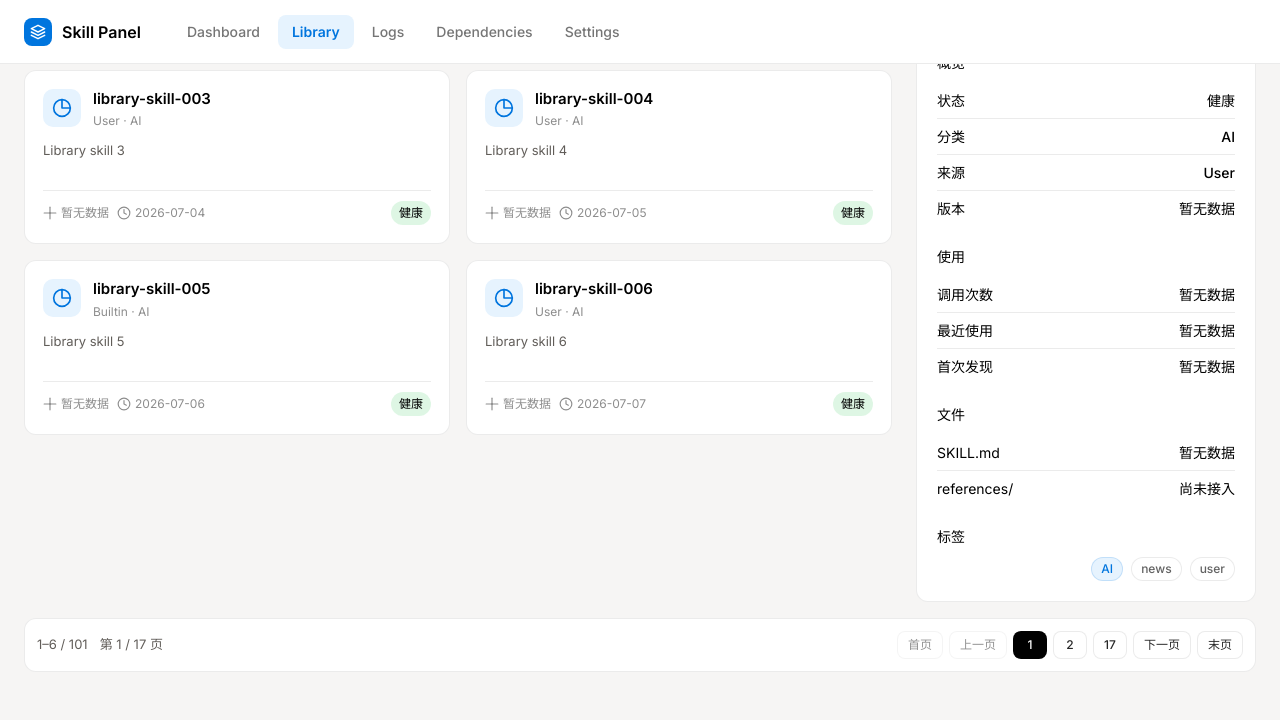
AppShell Tauri event fallback › allows 101 scanned skills to reach the last page
This screenshot has width=1280, height=720.
(page scrolled)
Check: the text "第 1 / 17 页" is shown, box left=100, top=635, right=163, bottom=655
Step 1. Click the button "末页" → (1220, 645), box left=1197, top=631, right=1243, bottom=659
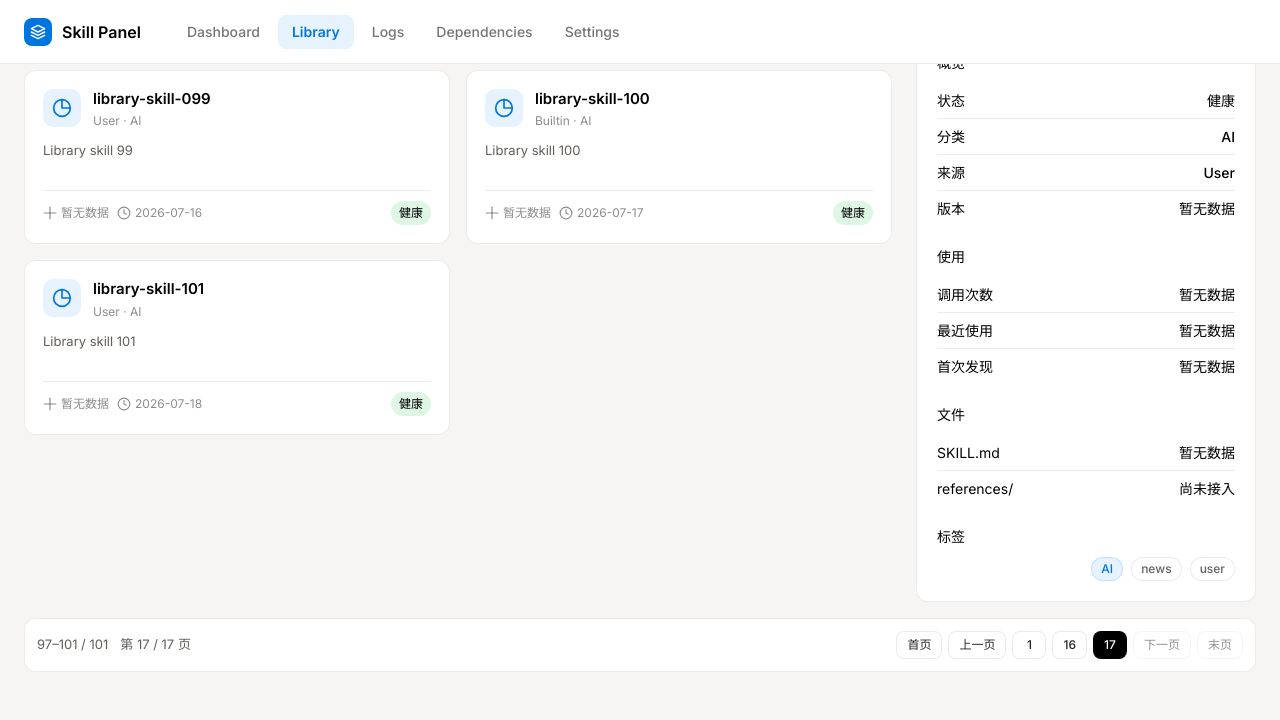
Check: the text "第 17 / 17 页" is shown, box left=120, top=635, right=191, bottom=655
Check: the text "97–101 / 101" is shown, box left=37, top=635, right=108, bottom=655
Check: the text "library-skill-101" is shown, box left=93, top=279, right=204, bottom=300
